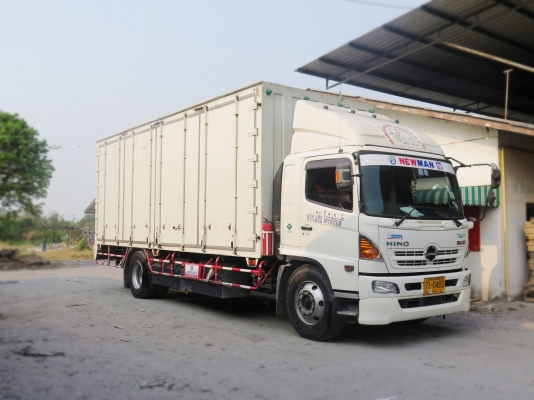truck: (94, 81, 473, 340)
